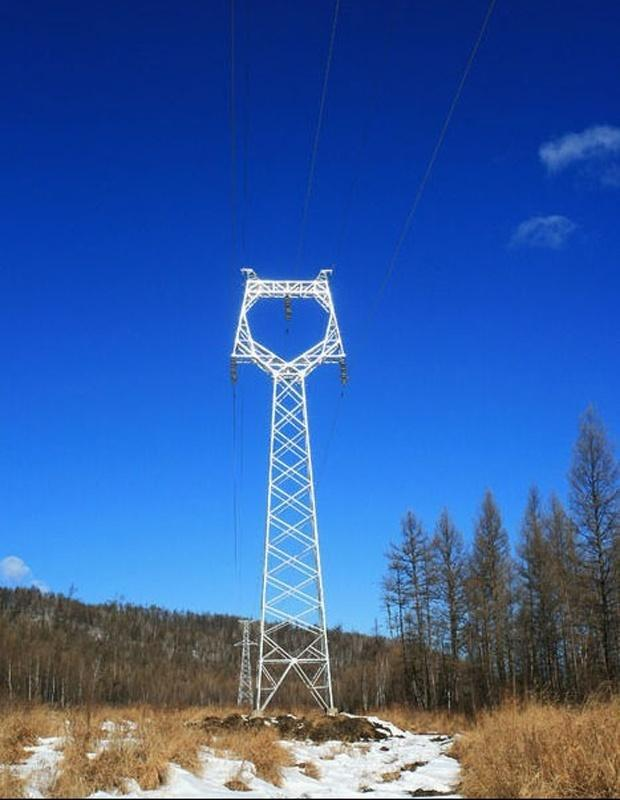power_tower: (231, 262, 348, 709), (232, 614, 260, 714), (366, 616, 388, 638)
